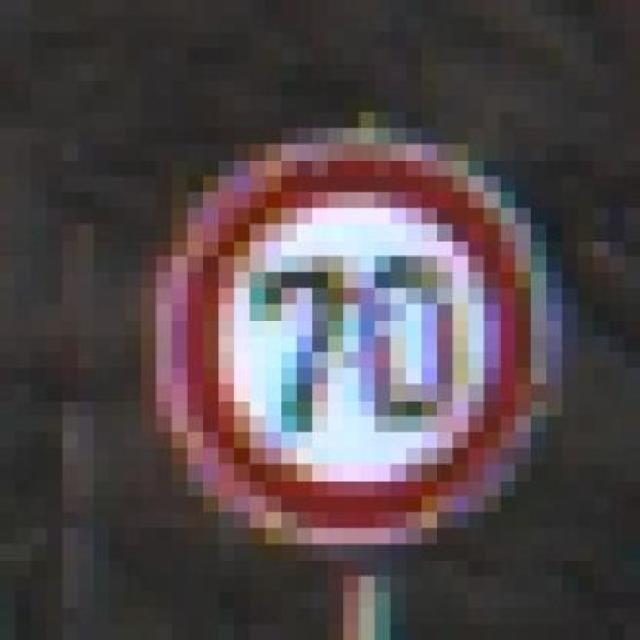forb_speed_over_70: (182, 151, 529, 528)
